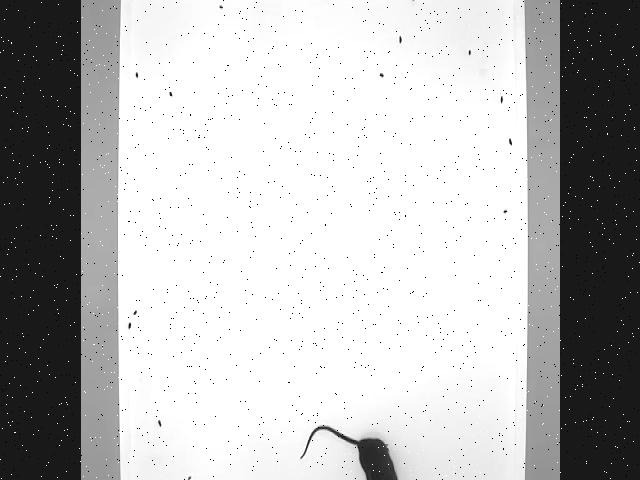Tikus: (295, 423, 405, 480)
